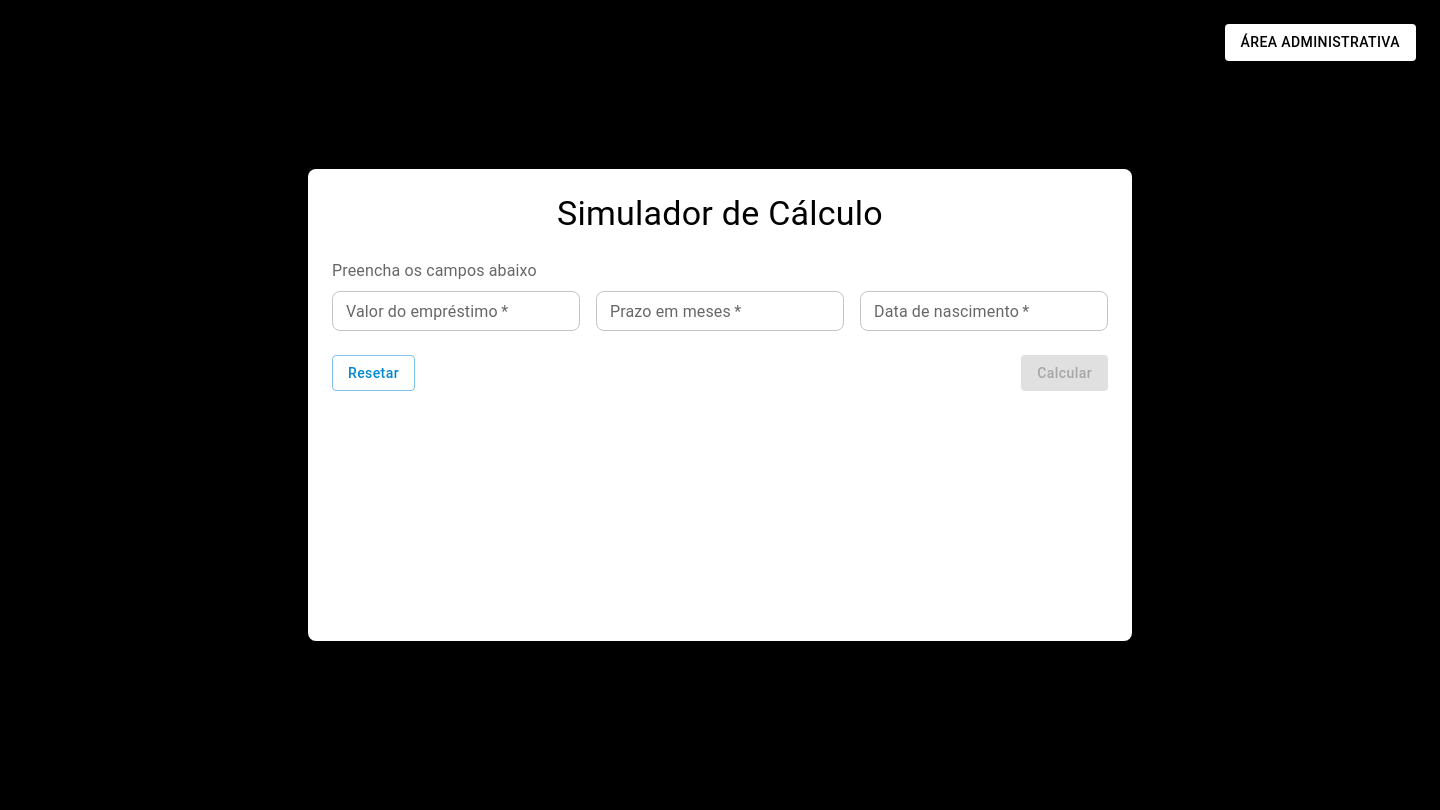
it: Simulador de Cálculo › exibe erro para valor do empréstimo menor ou igual a 0
Type "0" into the field labelled "Valor do empréstimo *" at x=456, y=311, box [332, 291, 580, 331]
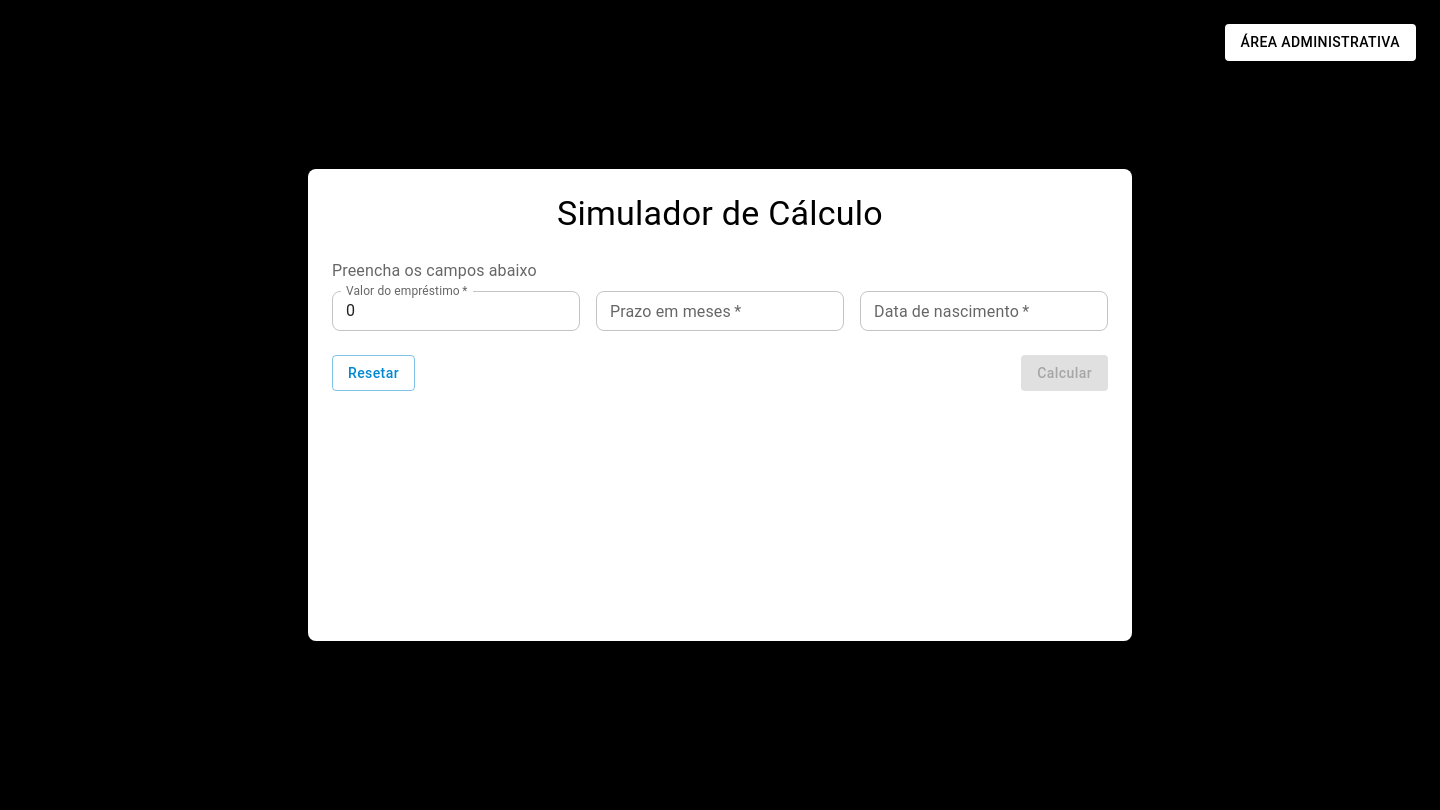
Type "12" into the field labelled "Prazo em meses *" at x=720, y=311, box [596, 291, 844, 331]
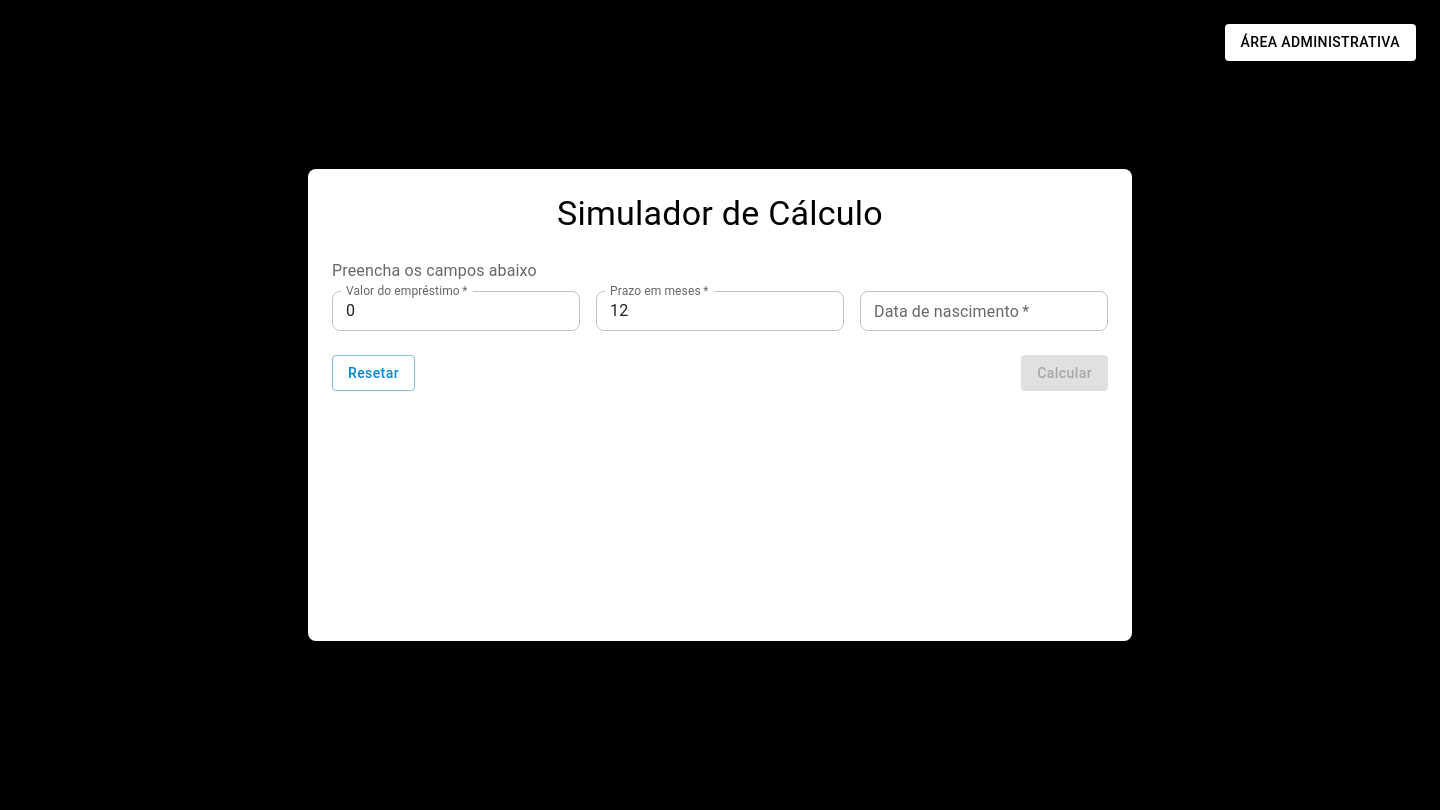
Type "01/01/2000" into the field labelled "Data de nascimento *" at x=984, y=311, box [860, 291, 1108, 331]
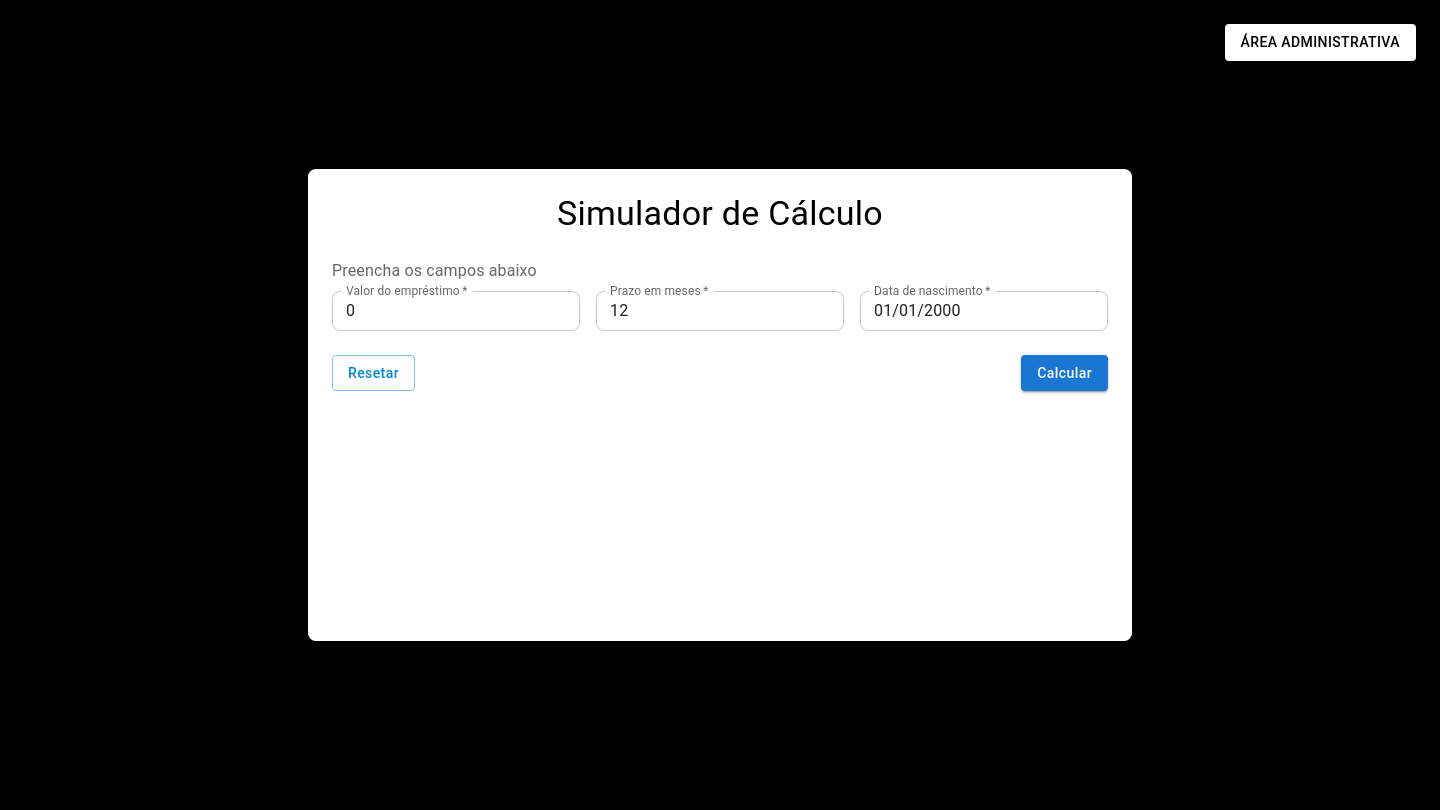
Click the button "Calcular" at x=1065, y=373, box [1021, 355, 1108, 392]
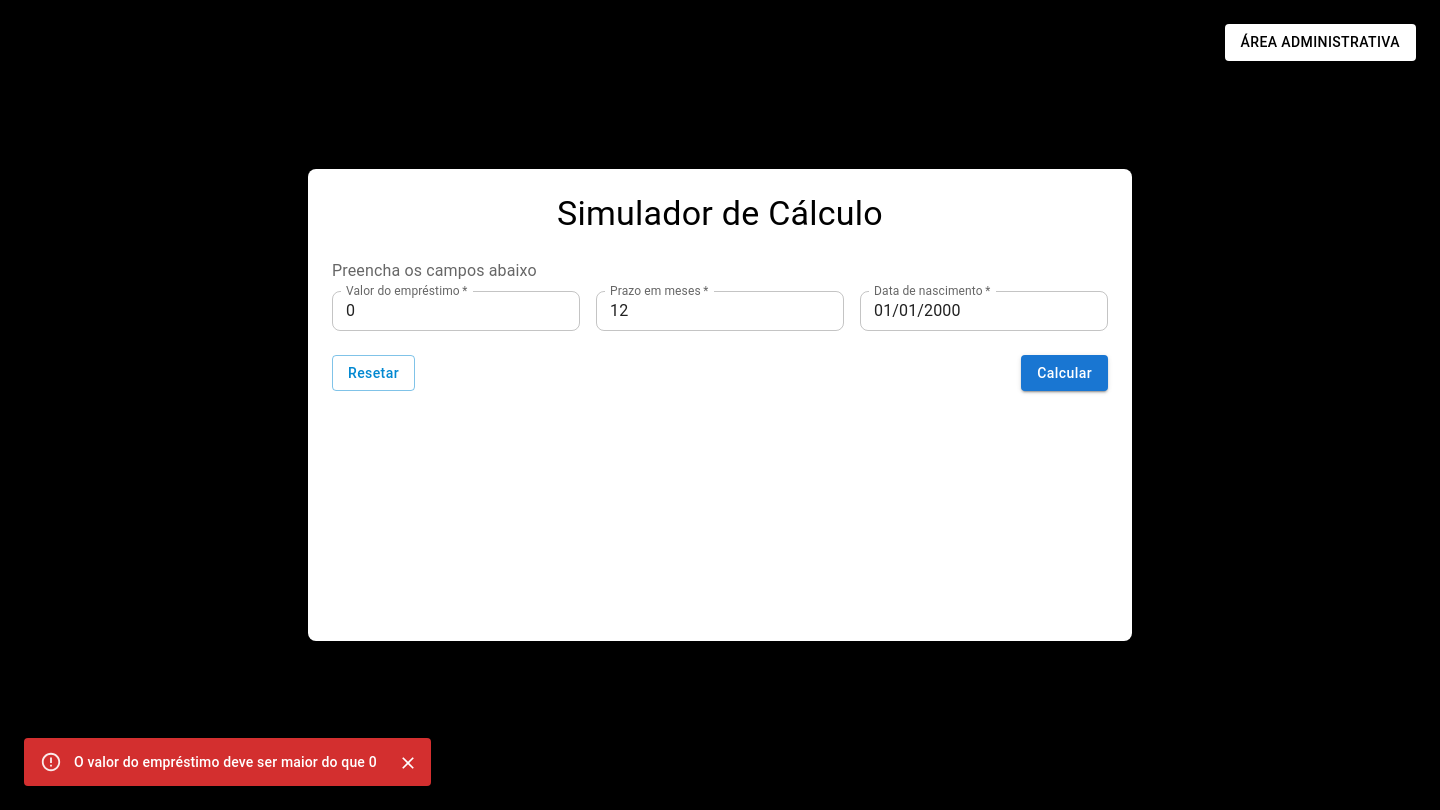
expect the text "O valor do empréstimo deve ser maior do que 0" is shown: met, box [74, 754, 377, 770]
